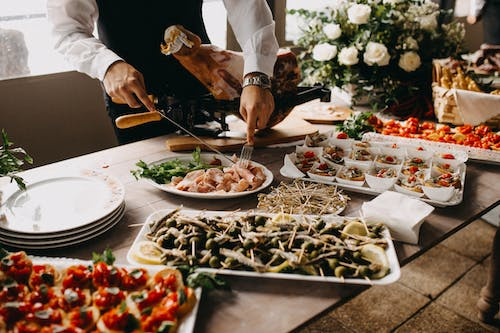knife: (154, 110, 237, 166)
